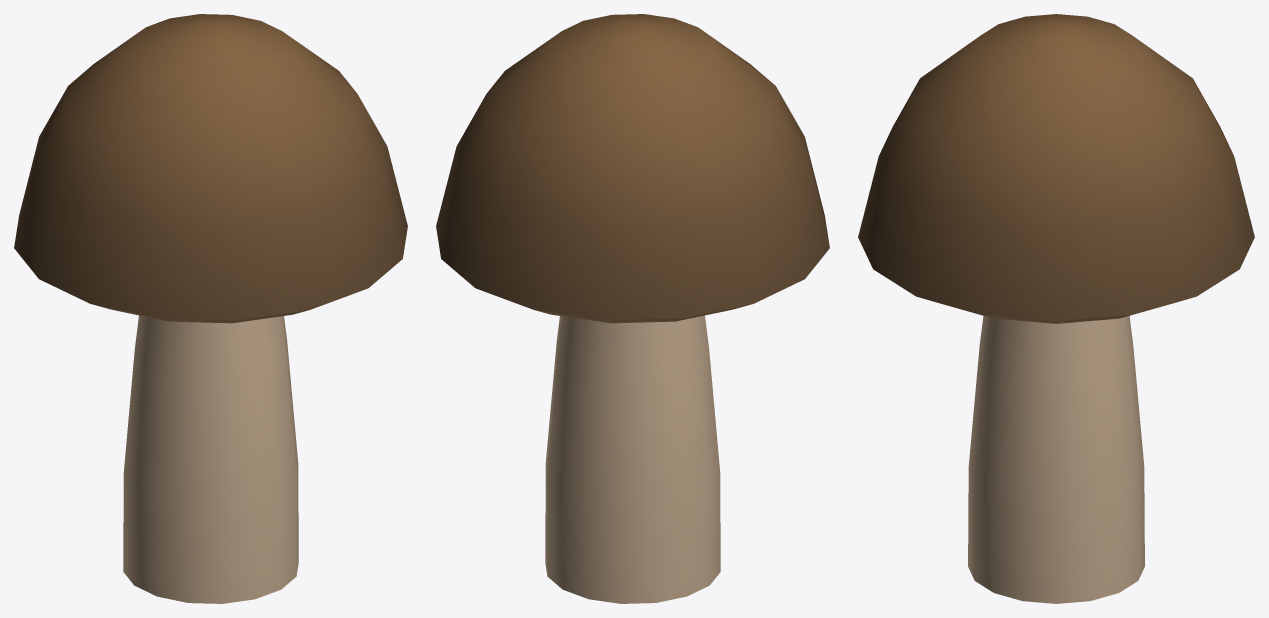
File: Mushoom_06.fbx
The picture shows the model from 3 angles, left to right: view 1: azimuth 30°, elevation 25°; view 2: azimuth 150°, elevation 25°; view 3: azimuth 270°, elevation 25°; orthographic projection.
Parts seen in each view (by area): view 1: Mushoom_06_LOD0; view 2: Mushoom_06_LOD0; view 3: Mushoom_06_LOD0.
Part boxes in pixels (x1,y1,x2,y2): Mushoom_06_LOD0: (14,14,407,603); Mushoom_06_LOD0: (436,14,829,603); Mushoom_06_LOD0: (858,14,1254,603).
Size of what is drawn, in the model's own units: 0.0809 by 0.1205 by 0.0809.
